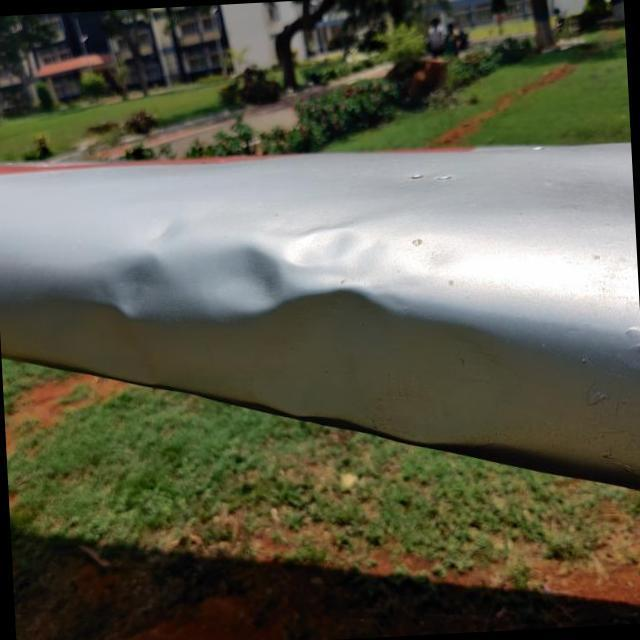dent: (168, 214, 452, 432), (77, 244, 175, 318)
